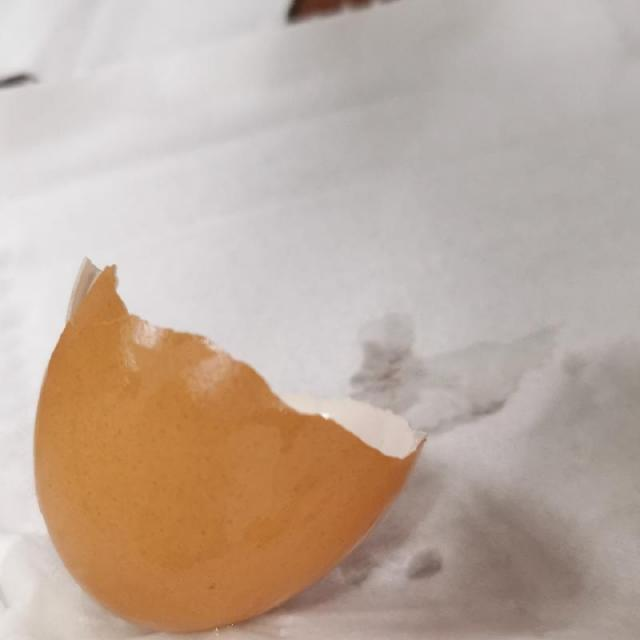egg shell: (31, 258, 428, 630)
